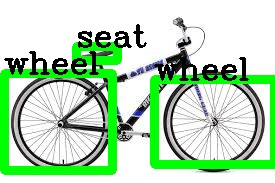seat: (76, 46, 117, 60)
wheel: (4, 73, 112, 170), (154, 79, 274, 164)
